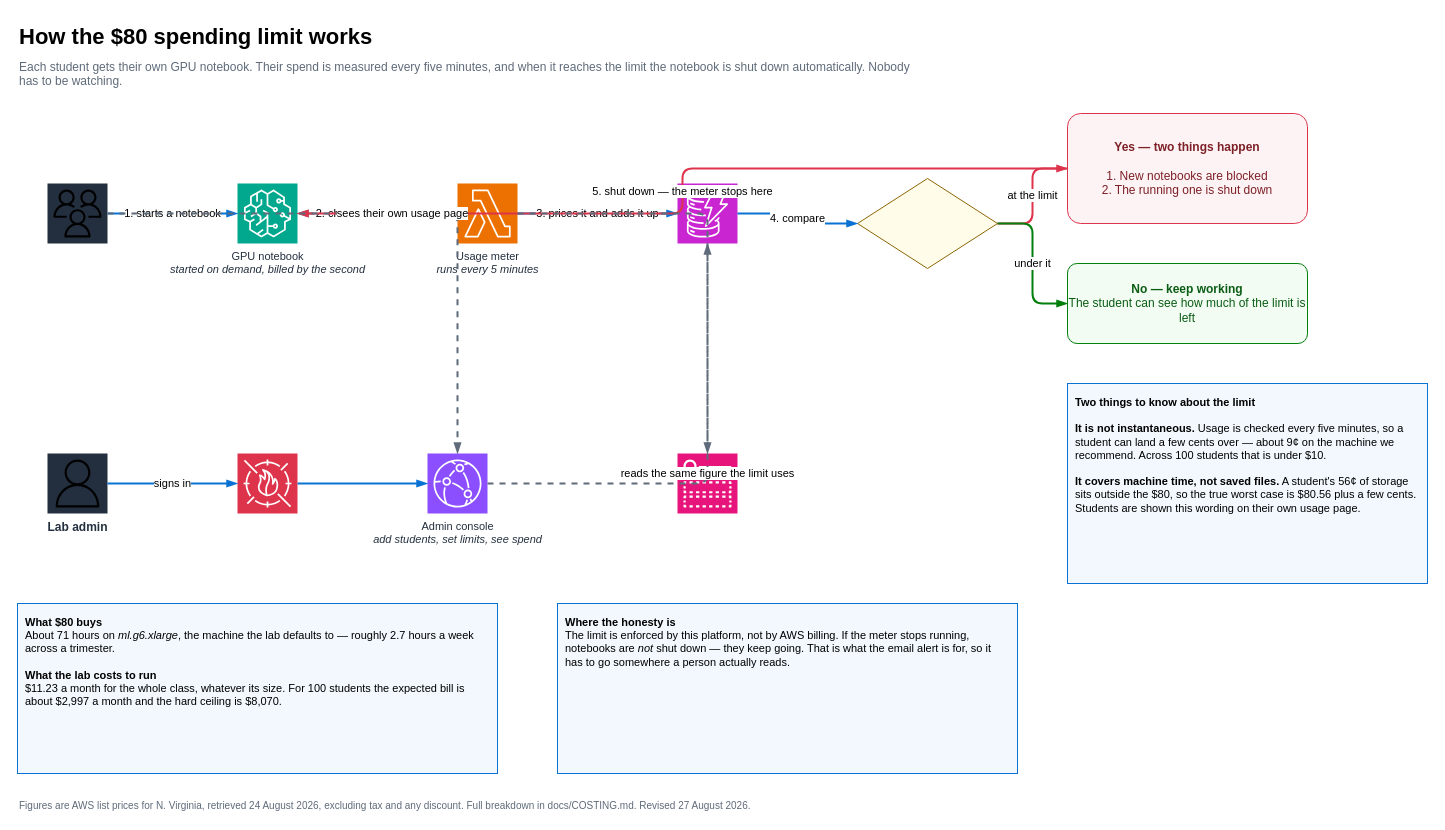
Some shapes in this 1445 by 830 pixel diagram are drawn without their labels. The centre of each missing label's shape, as x and y in pixels:
Email alert sent if the machinery itself breaks: (707,483)
Reached $80 ?: (927,223)
Running total what this student has spent: (707,213)
Student: (77,213)
Web firewall in front of the console: (267,483)
